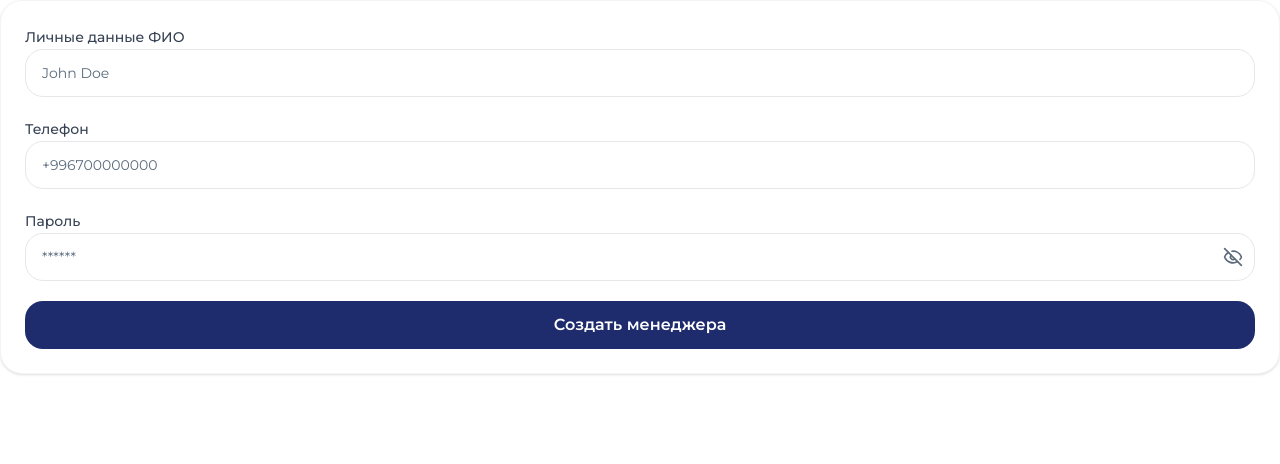
Test case: CreateManagerForm › проверяет формат телефона
Type "abc" into the field labelled "Телефон" at (640, 165), box [25,141,1255,189]
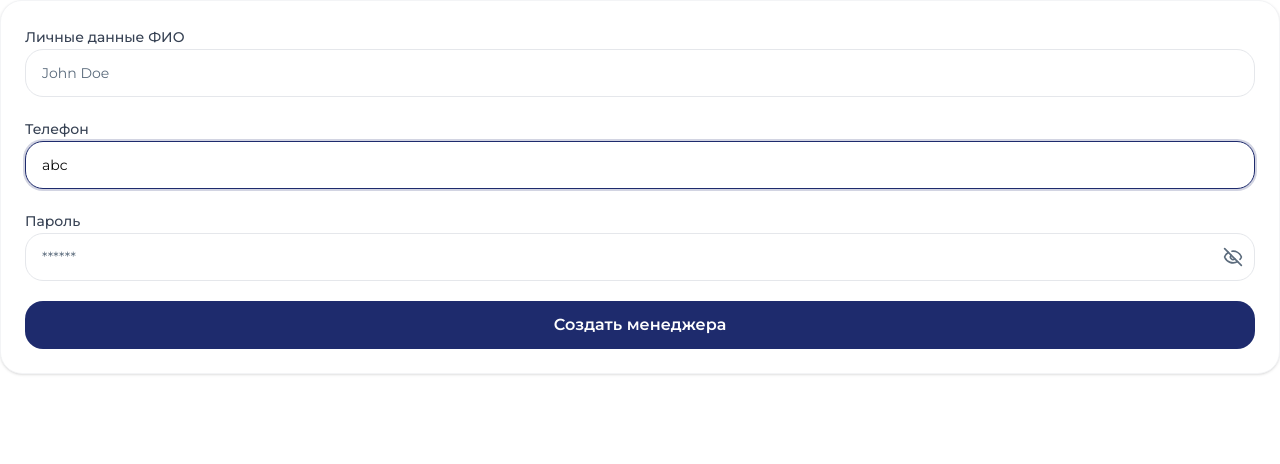
Click the button "Создать менеджера" at (640, 325), box [25,301,1255,349]
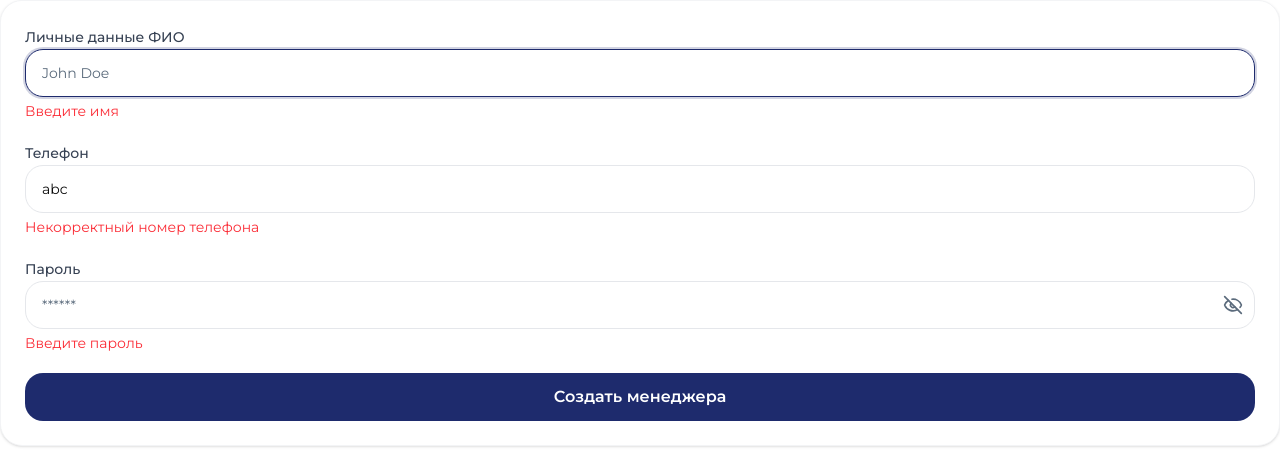
Expected: the text "Некорректный номер телефона" is shown, [25,218,259,236]
